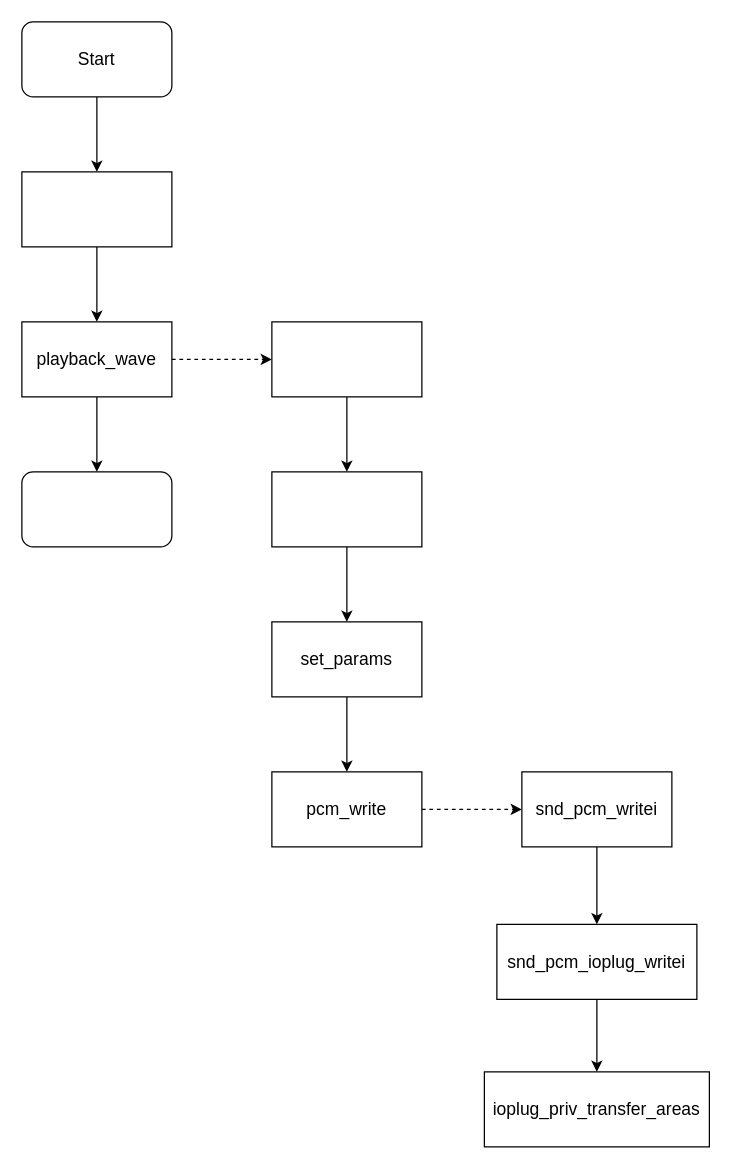
Some shapes in this 731 by 1169 pixel diagram are drawn without their labels. Each missing label, with the box of its shape:
End: (21, 471, 172, 547)
read_header: (271, 321, 422, 397)
snd_pcm_open: (21, 171, 172, 247)
test_wavefile: (271, 471, 422, 547)
